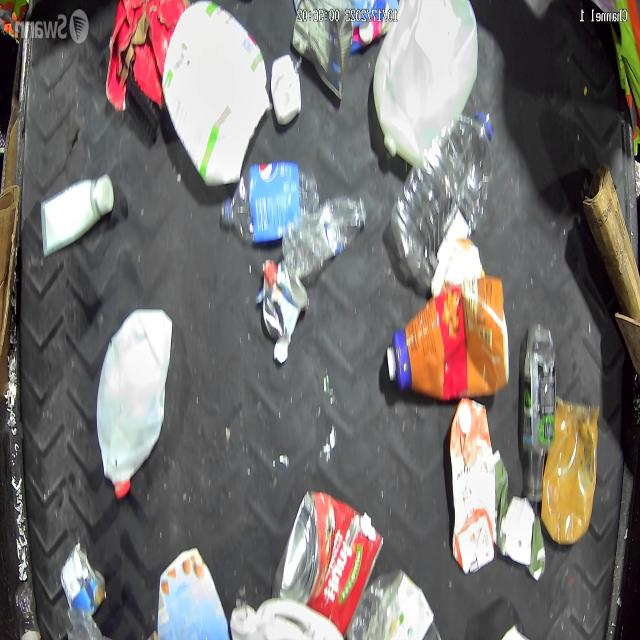can: (262, 261, 308, 343), (60, 541, 105, 617)
milk_jug: (159, 3, 271, 188), (372, 4, 478, 162), (96, 308, 173, 499), (230, 598, 344, 640)
non_white_jug: (386, 276, 508, 400), (449, 397, 496, 574)
plastic_bottle: (390, 108, 494, 290), (218, 161, 319, 245), (280, 193, 369, 280), (523, 324, 555, 501), (14, 581, 41, 640)
